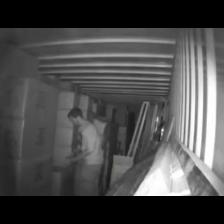person: (68, 108, 103, 195)
